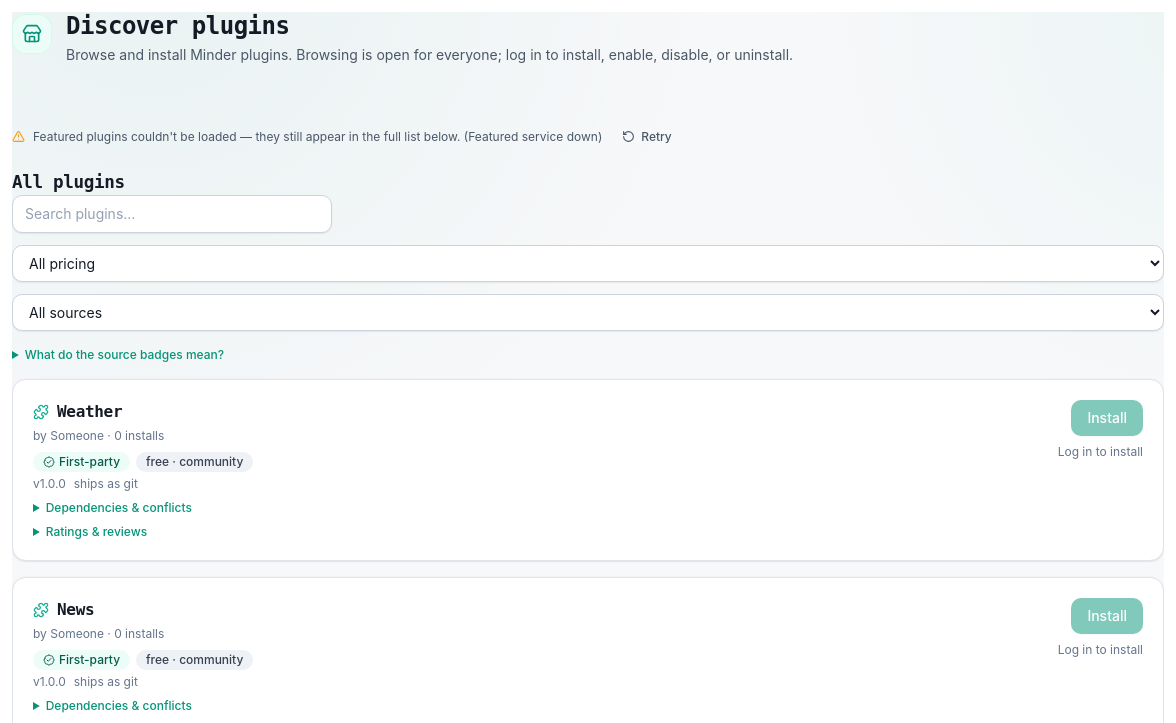
Test: Discover plugins: secondary failures stay quiet and recoverable › a featured failure shows a quiet notice with Retry and leaves the catalog usable
Check: the heading "Weather" is shown, box [33,402,122,421]
Check: the text "Featured plugins couldn't be loaded" is shown, box [33,129,460,144]
Click the button named "Retry loading featured plugins". click: [647, 137]
box: [610,121,684,153]
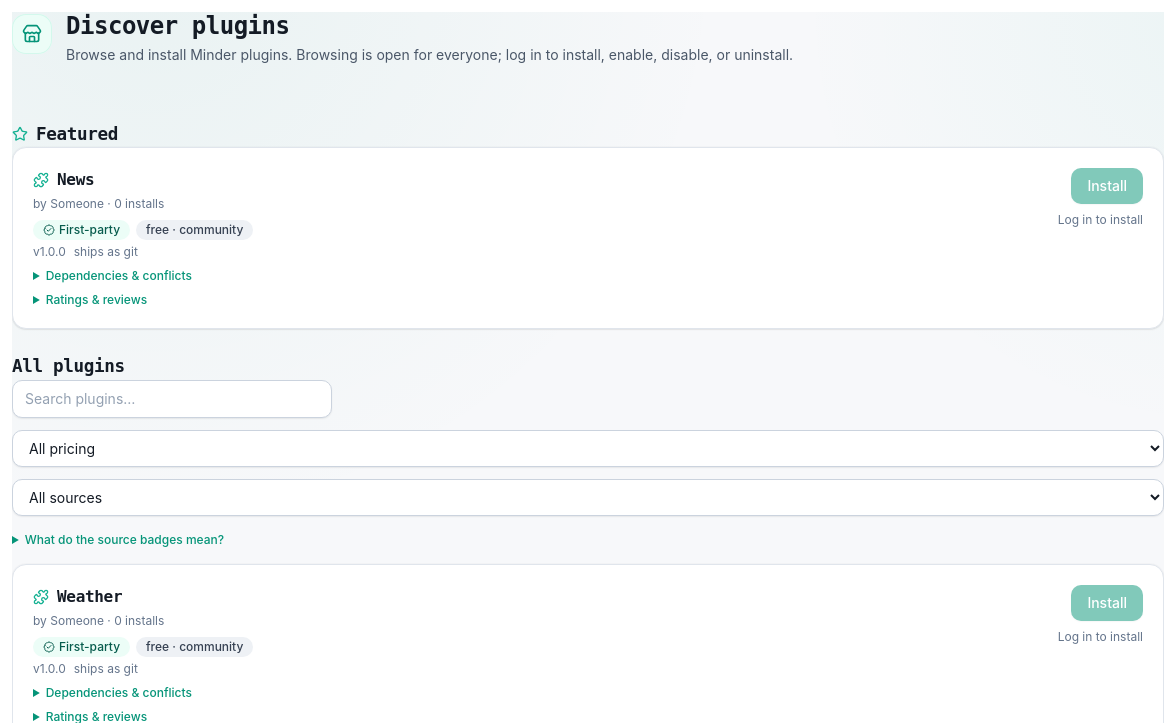
Check: the heading "Featured" is shown, box [12,124,118,144]
Check: the text "Featured plugins couldn't be loaded" is gone
